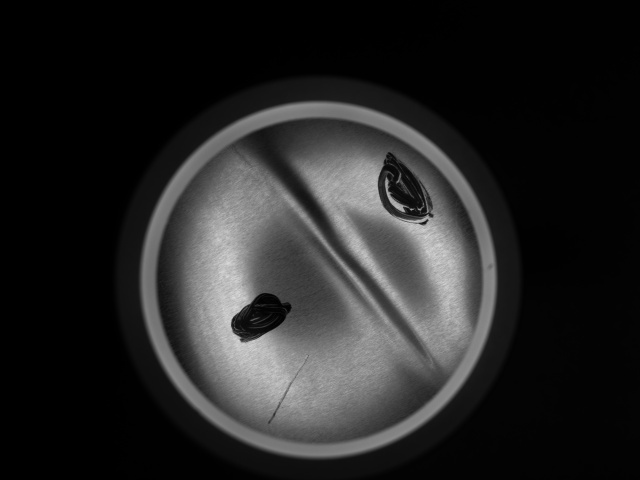ca_shang: (261, 353, 309, 429)
zang_wu: (375, 152, 438, 230), (230, 289, 300, 345)
zhe_zhou: (192, 151, 441, 404)
